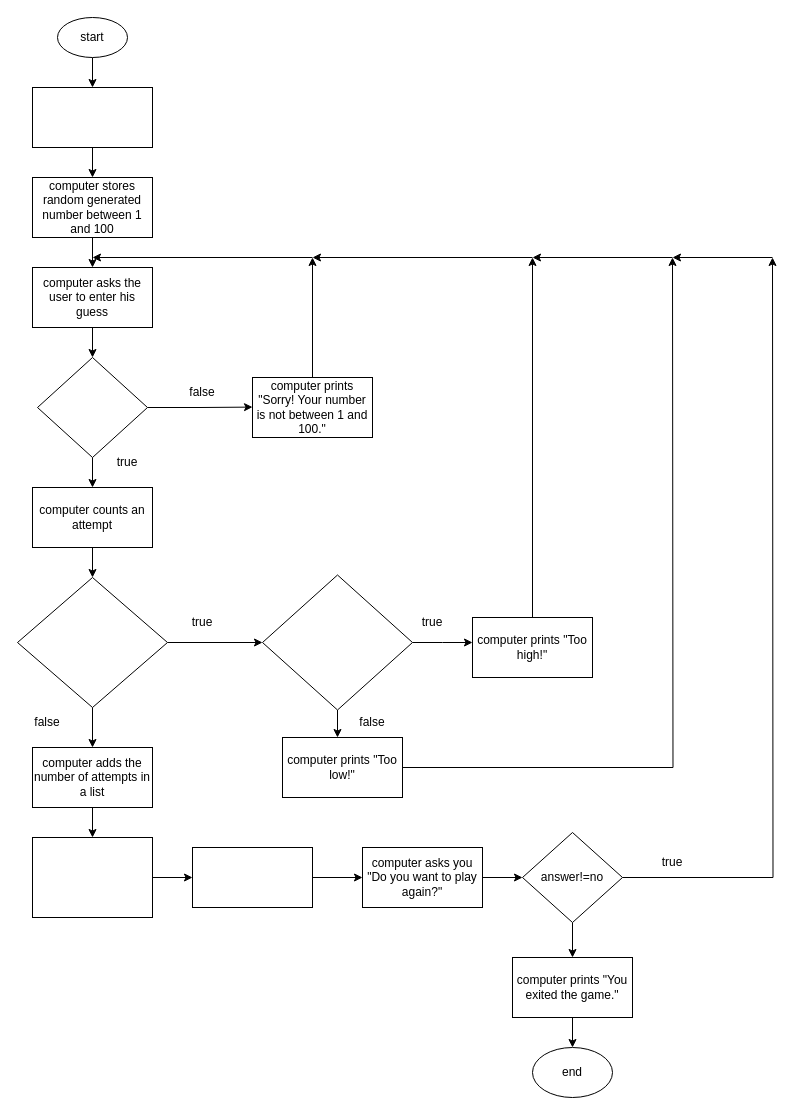
The diagram is 799 pixels wide and 1115 high, and some of its shapes have lost their labels. Each missing label, with the centre of its shape:
computer congratulates you and shows you the number of the attempts: (x=92, y=877)
computer loads the random library: (x=92, y=117)
computer shows you your best score: (x=252, y=877)
guess!=randomNumber: (x=92, y=642)
guess<1 or guess>100: (x=92, y=407)
guess>randomNumber: (x=337, y=642)
